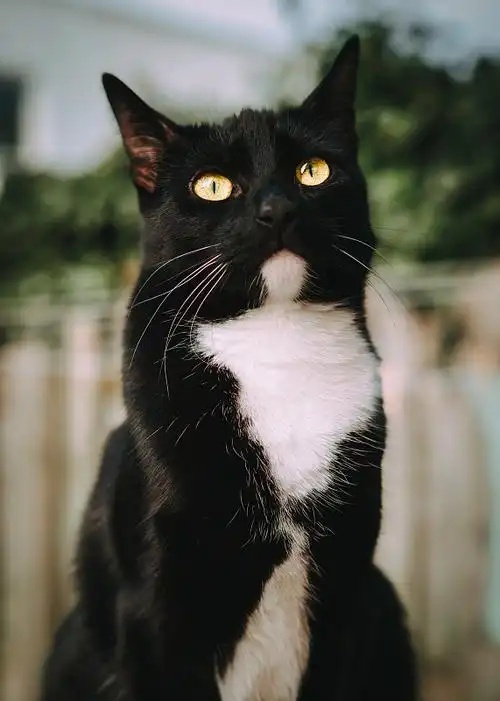奶牛猫: (103, 38, 374, 360)
